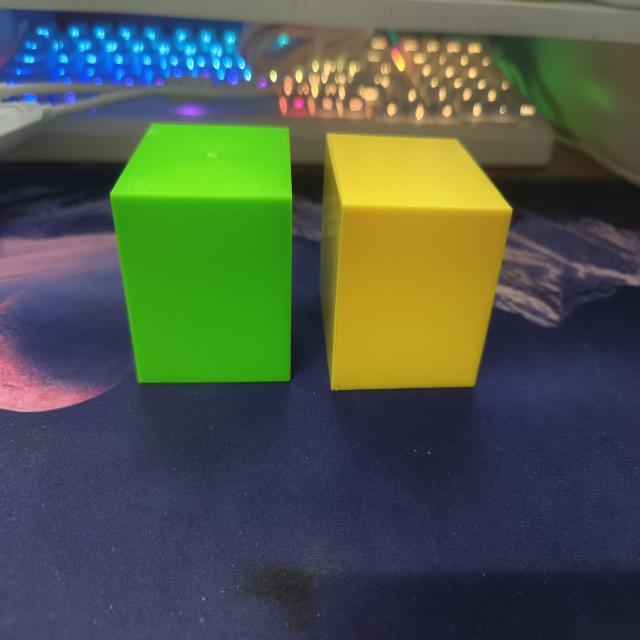green: (108, 124, 294, 388)
yellow: (319, 132, 513, 394)
